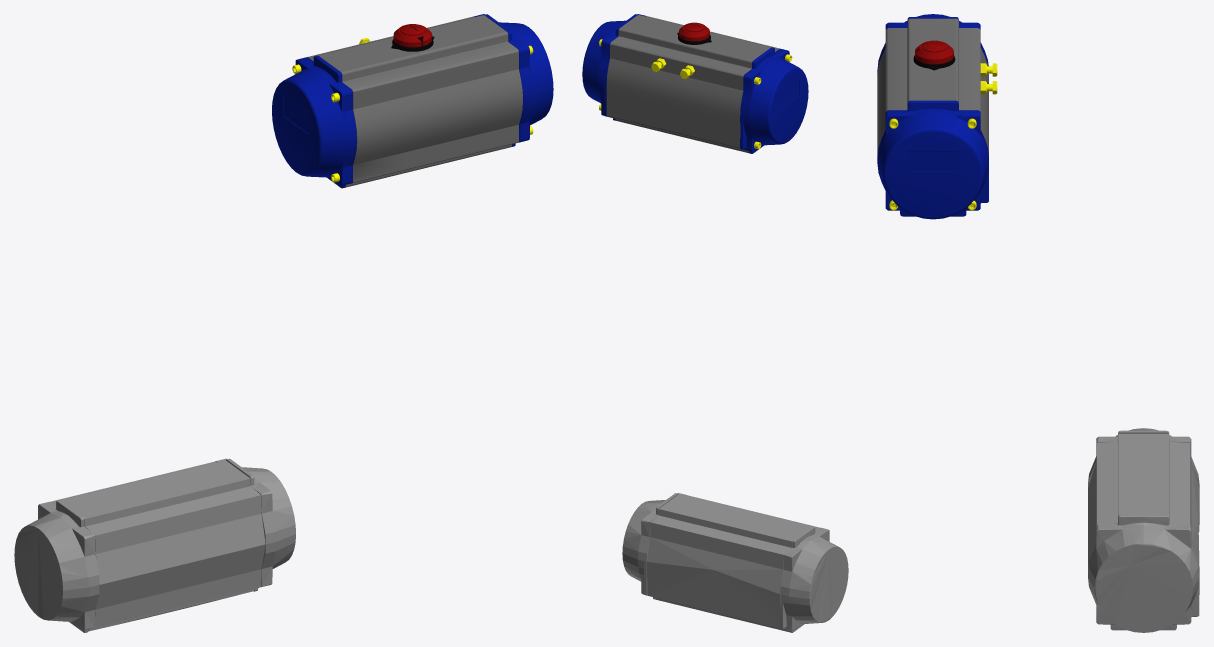
3 views of the same model, side by side, from view 1: azimuth 30°, elevation 25°; view 2: azimuth 150°, elevation 25°; view 3: azimuth 270°, elevation 25° (orthographic). The views are drawn at different scales.
Parts seen in each view (by area): view 1: 210(VP1200DA), 210(VP1200DA_Outline; view 2: 210(VP1200DA), 210(VP1200DA_Outline; view 3: 210(VP1200DA), 210(VP1200DA_Outline.
Boxes of the visible parts, x1,y1,x2,y2 form: 210(VP1200DA): (272, 14, 553, 188); 210(VP1200DA_Outline: (14, 458, 295, 632); 210(VP1200DA): (582, 14, 808, 153); 210(VP1200DA_Outline: (622, 493, 848, 632); 210(VP1200DA): (877, 14, 997, 219); 210(VP1200DA_Outline: (1088, 428, 1199, 632).
Size of the model in its own units: 92.82 by 140 by 65.84.
